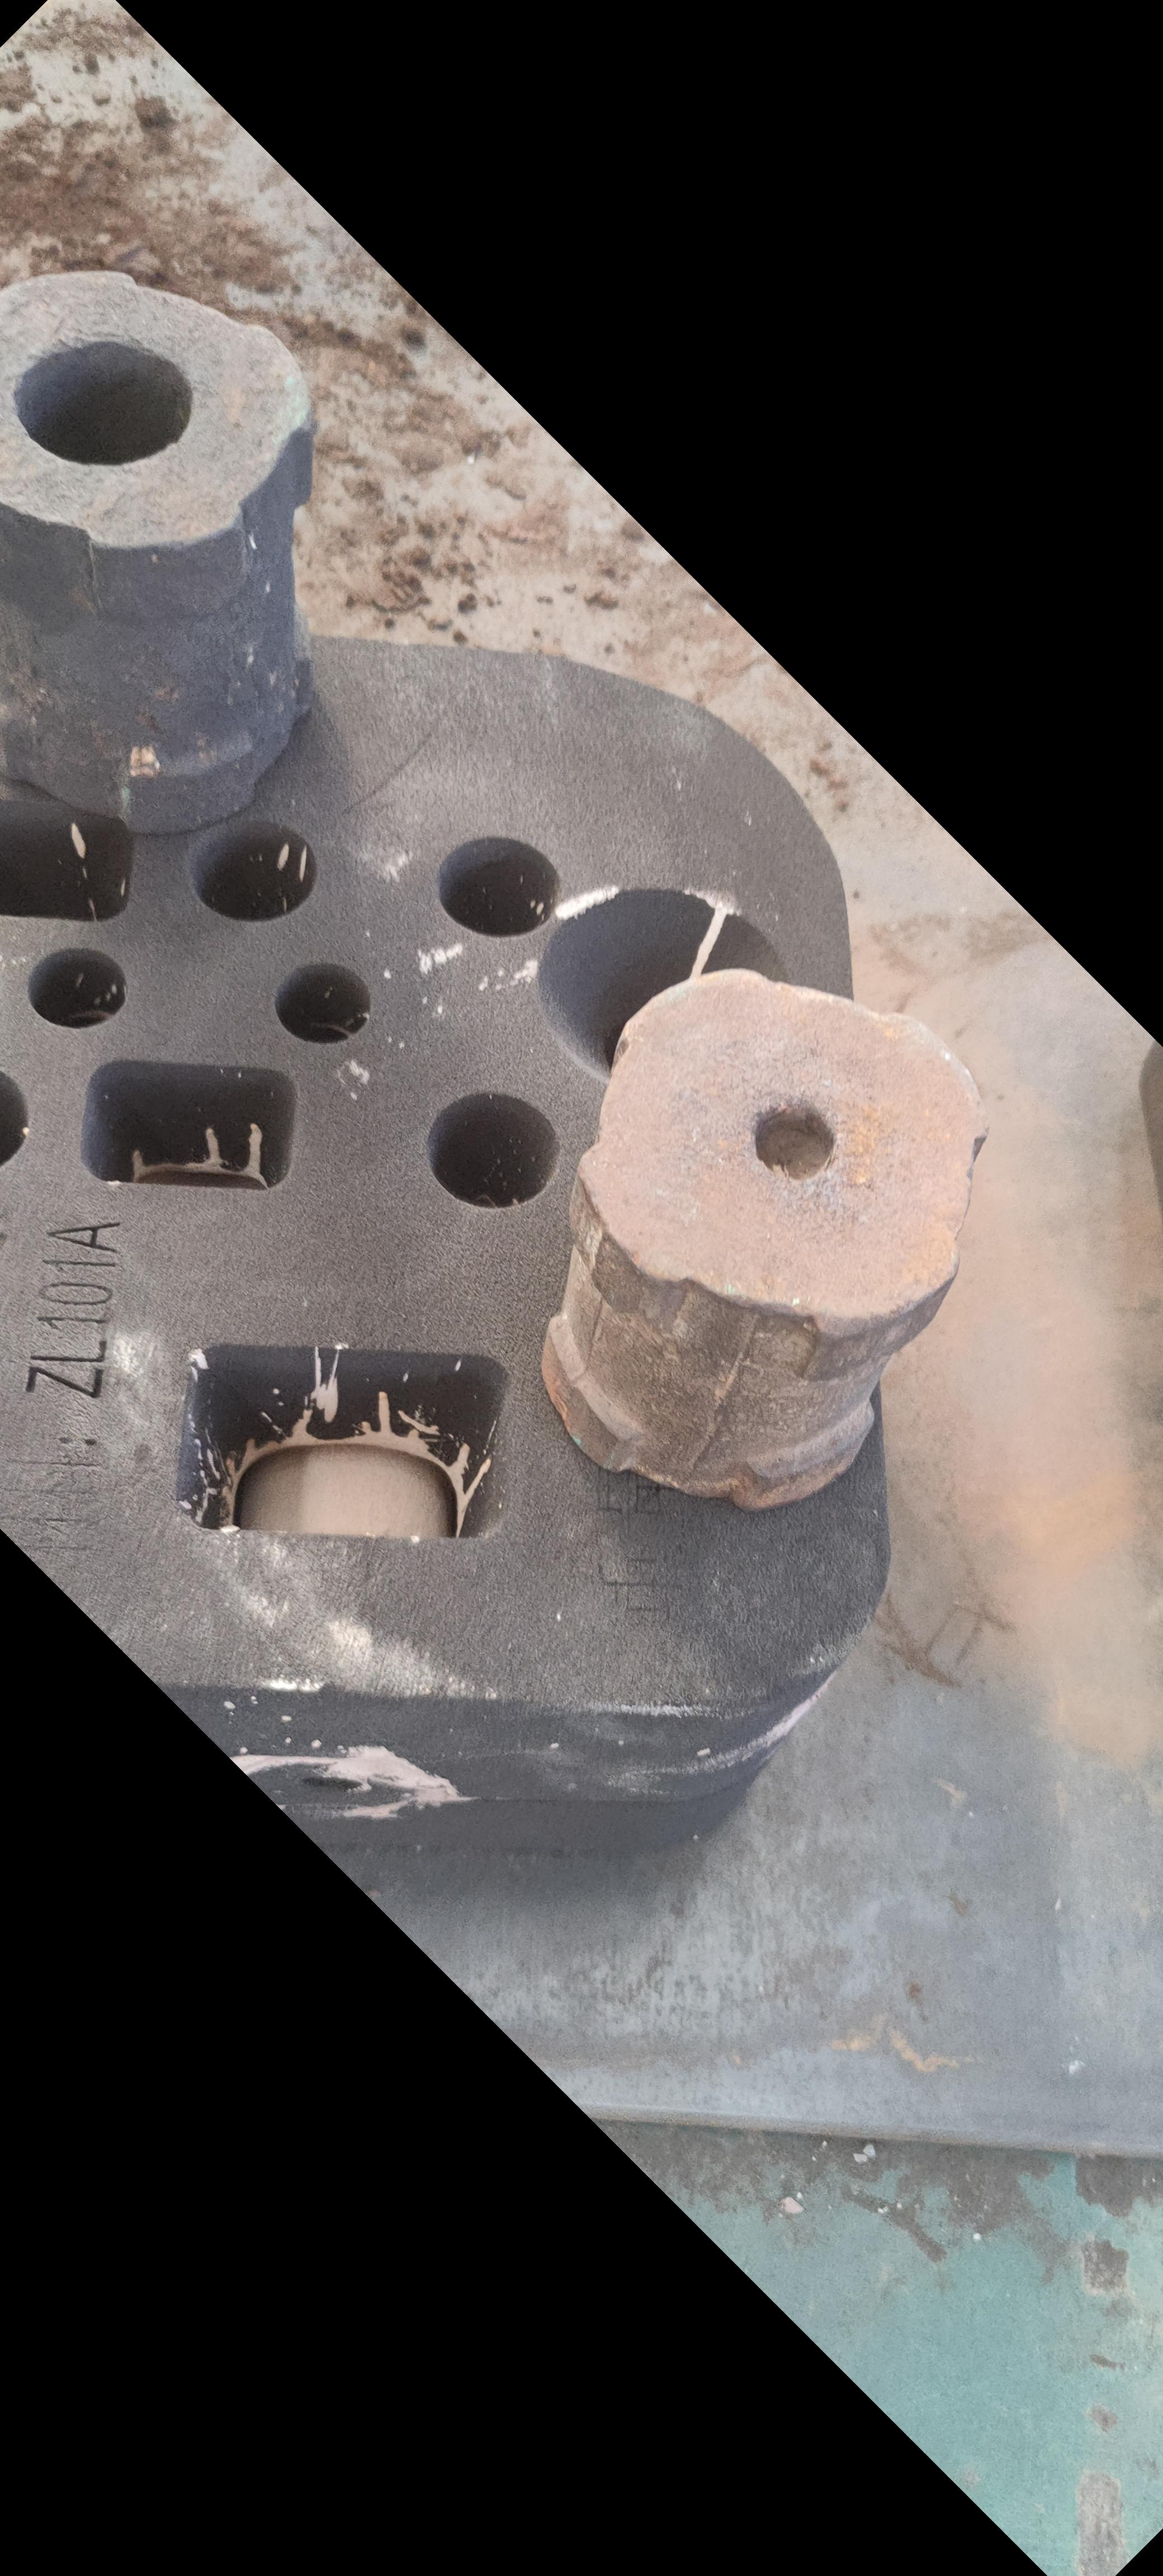pouring hole: (534, 881, 800, 1093)
